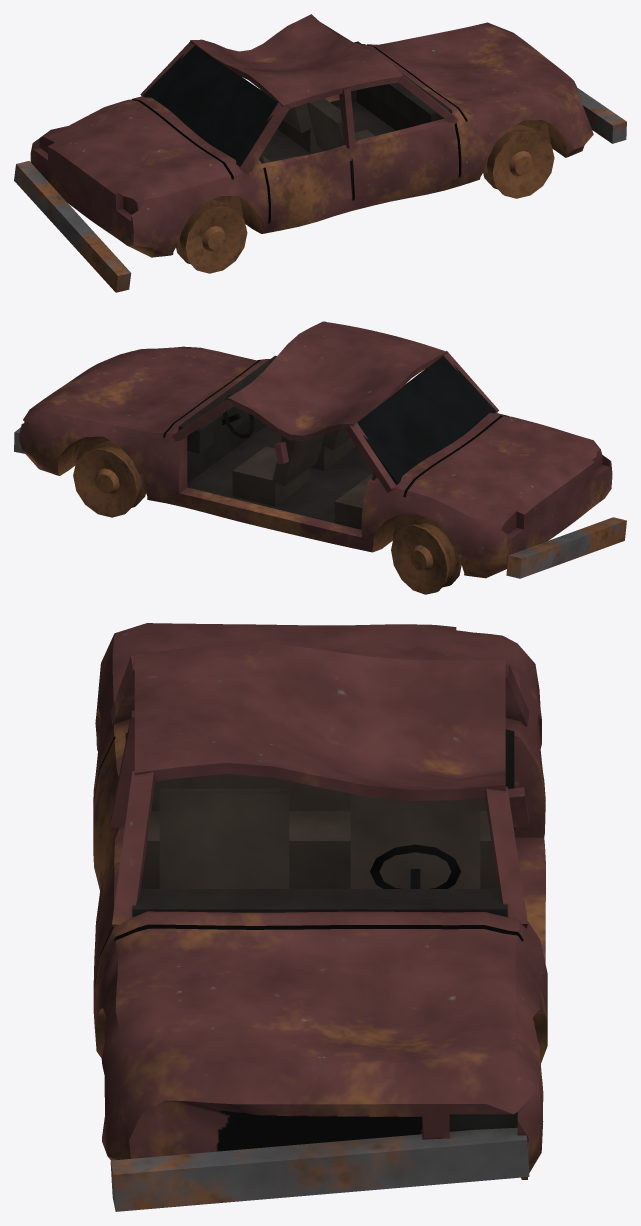
File: ScrapSedan.fbx
3 views of the same model, one above another, from view 1: azimuth 30°, elevation 25°; view 2: azimuth 150°, elevation 25°; view 3: azimuth 270°, elevation 25° (orthographic). The views are drawn at different scales.
Visible parts, largest first — view 1: ScrapSedan; view 2: ScrapSedan; view 3: ScrapSedan.
Boxes of the visible parts, x1,y1,x2,y2 form: ScrapSedan: (14, 14, 626, 292); ScrapSedan: (14, 321, 626, 594); ScrapSedan: (93, 623, 547, 1211).
Size of the model in its own units: 17.22 by 4.89 by 6.67.
1 material, 1 textured.
